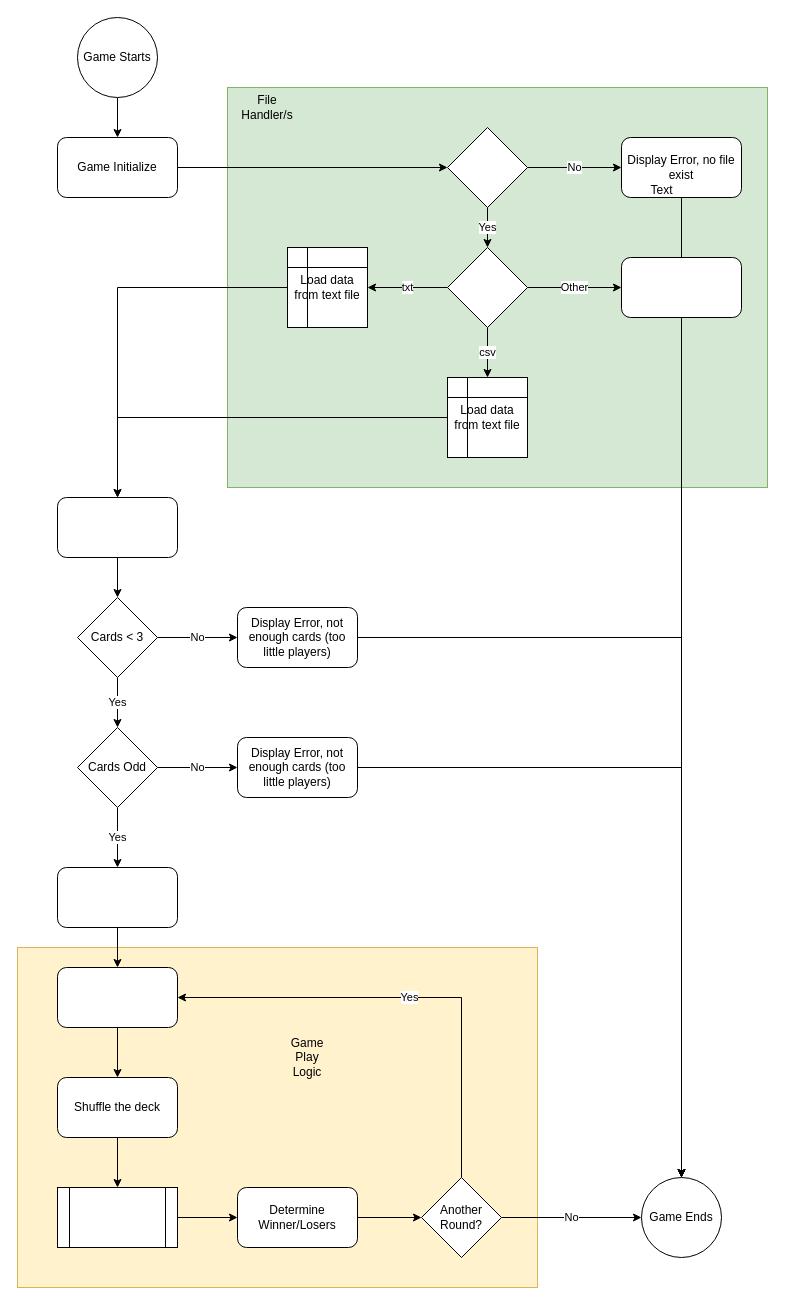
This 785x1305 diagram has some shape labels left out. Here are the shapes that lost their labels. From the top down, the centre of each, then its label:
the point at 487,167: File Exist ?
the point at 487,287: Type of File
the point at 681,287: Display Error, cannot read file type
the point at 117,527: Convert data into card objects
the point at 117,897: Create a new deck of cards
the point at 117,997: Recreate deck, without loaded cards
the point at 117,1217: Game Play (Process)
